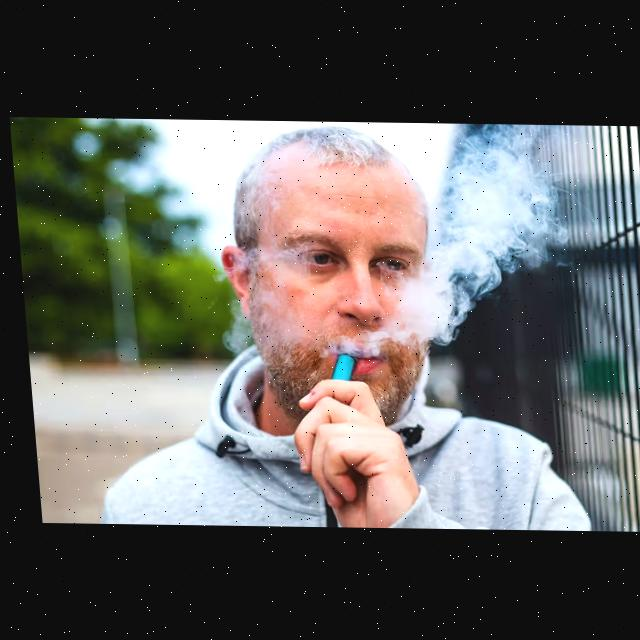vape: (323, 348, 351, 379)
